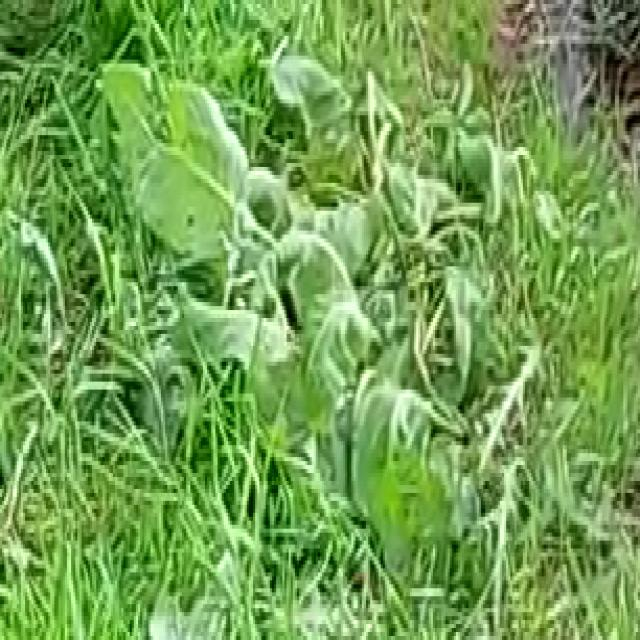organic waste: (280, 80, 496, 524), (121, 12, 347, 378), (144, 525, 270, 608)
